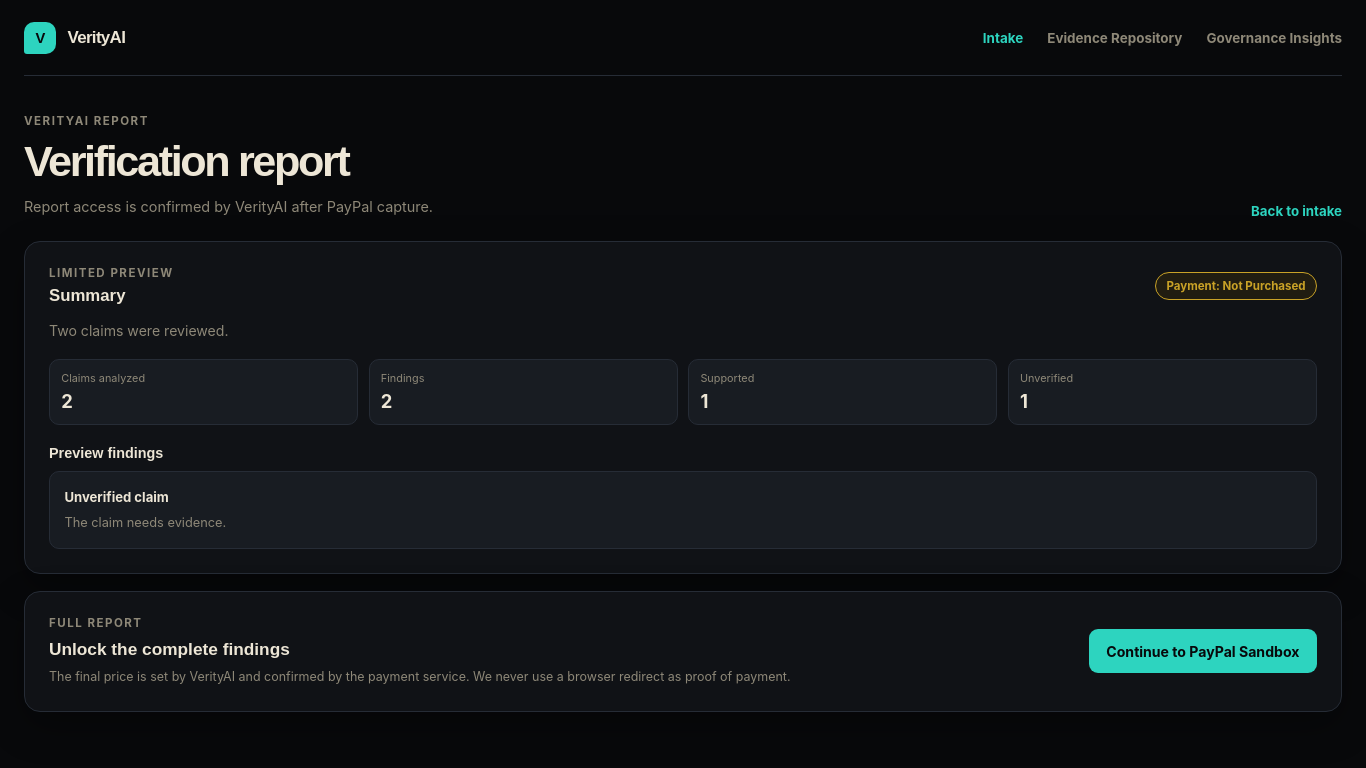
Scenario: report payment flow › shows failed state for initiation network errors and does not redirect
Click the button "Continue to PayPal Sandbox". click: (1203, 652)
box: [1089,630,1317,674]
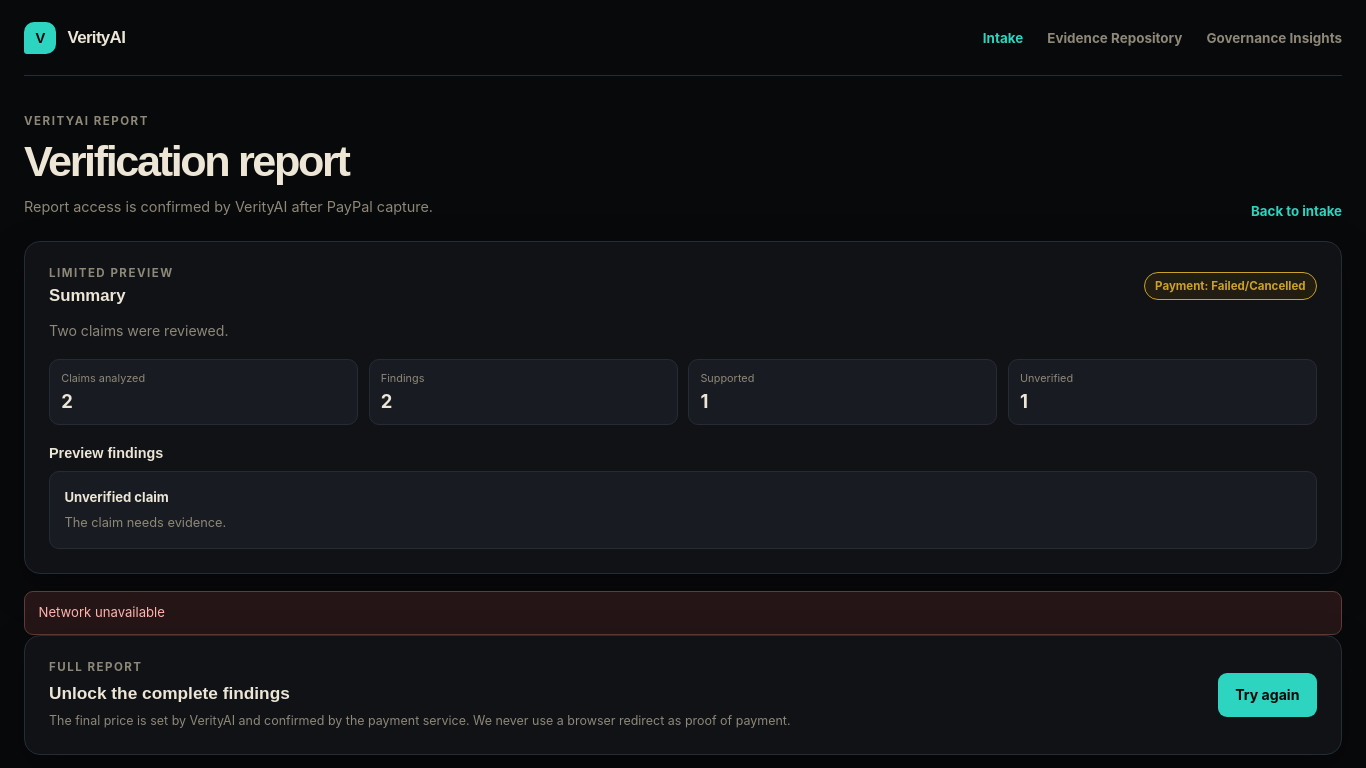
Now the text "Payment: failed/cancelled" is shown, box [1144,272,1317,300]
Now the text "Network unavailable" is shown, box [24,591,1342,635]
